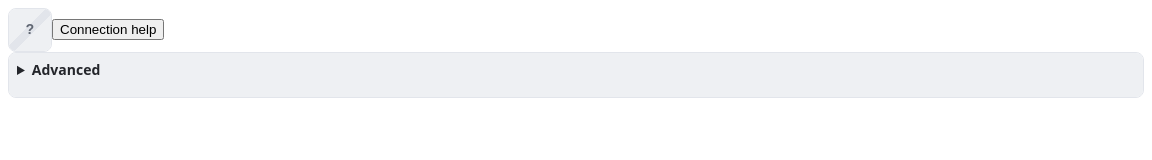
Test: CloudMarkup visual foundation › names service placeholders and makes tooltip help keyboard dismissible
Expected: the picture named "Example queue service icon placeholder" is shown, [8,8,52,52]
Focus the button "Connection help" at coordinates (108, 30), box [52,19,164,40]
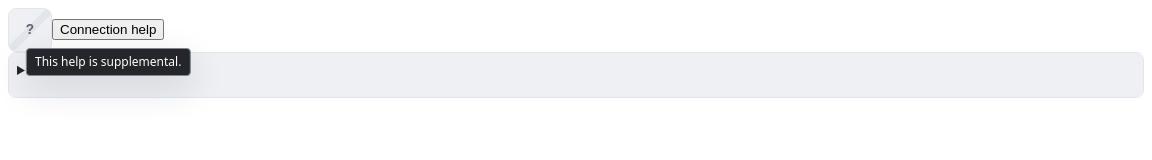
Now the tooltip reads "This help is supplemental.", box [35,53,181,70]
Press Escape in the button "Connection help", box [52,19,164,40]
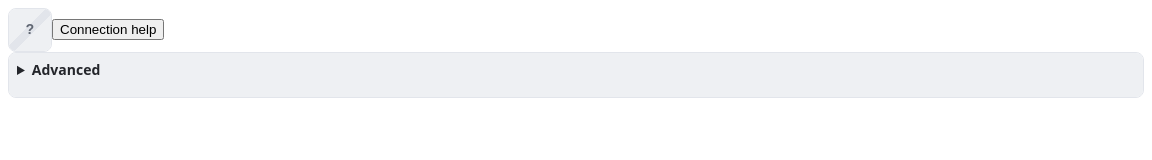
Now the tooltip "This help is supplemental." is gone
